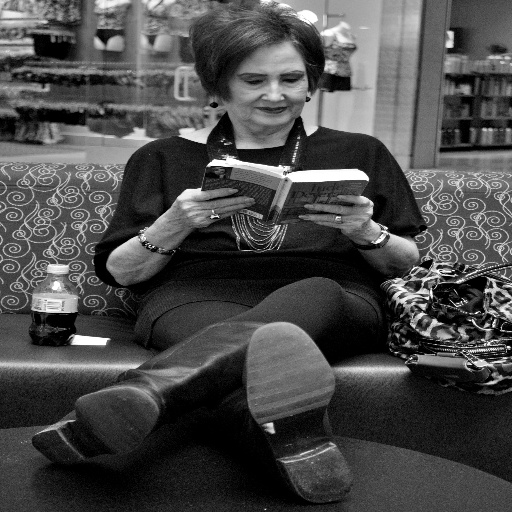hand: (139, 175, 250, 251), (296, 192, 375, 235)
